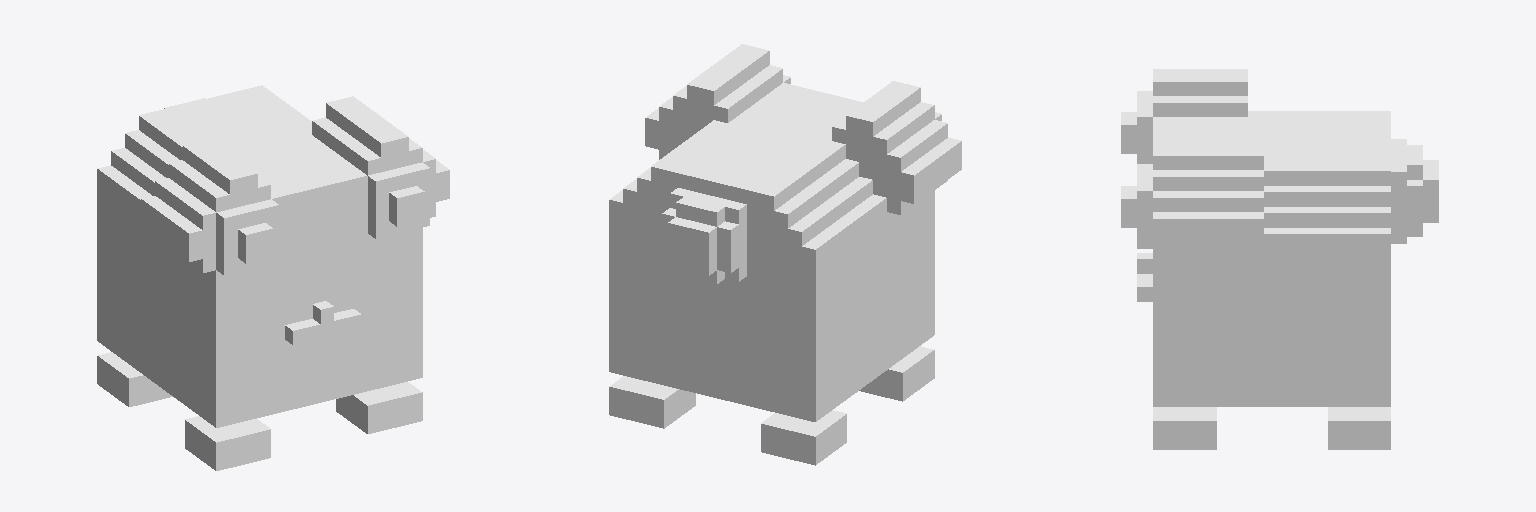
File: sheep_sep.obj
3 renders of one model, left to right at view 1: azimuth 30°, elevation 25°; view 2: azimuth 150°, elevation 25°; view 3: azimuth 270°, elevation 25°, orthographic.
Parts seen in each view (by area): view 1: sheep_sep; view 2: sheep_sep; view 3: sheep_sep.
Boxes of the visible parts, x1,y1,x2,y2 form: sheep_sep: [97, 85, 449, 470]; sheep_sep: [609, 44, 961, 465]; sheep_sep: [1121, 69, 1438, 449].
Bounding box in the file's own units: 19 × 20 × 20.